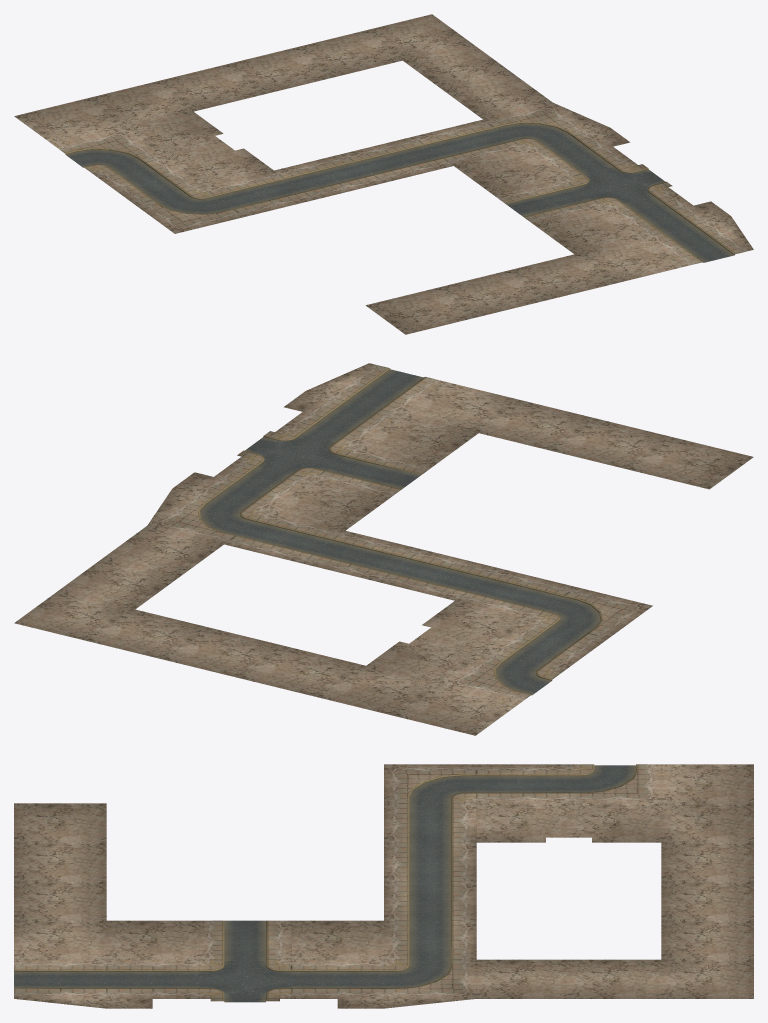
Rendered from M11Z2_Floor.glb.
3 renders of one model, top to bottom at view 1: azimuth 30°, elevation 25°; view 2: azimuth 150°, elevation 25°; view 3: azimuth 270°, elevation 25°, orthographic. The views are drawn at different scales.
Parts seen in each view (by area): view 1: M11Z2_FLOOR025, M11Z2_FLOOR020, M11Z2_FLOOR002, M11Z2_FLOOR018, M11Z2_FLOOR022, M11Z2_FLOOR007, M11Z2_FLOOR016, M11Z2_FLOOR030, M11Z2_FLOOR033, M11Z2_FLOOR010, M11Z2_FLOOR013, M11Z2_FLOOR017 (+17 smaller); view 2: M11Z2_FLOOR015, M11Z2_FLOOR013, M11Z2_FLOOR017, M11Z2_FLOOR018, M11Z2_FLOOR022, M11Z2_FLOOR002, M11Z2_FLOOR004, M11Z2_FLOOR028, M11Z2_FLOOR, M11Z2_FLOOR006, M11Z2_FLOOR010, M11Z2_FLOOR019 (+17 smaller); view 3: M11Z2_FLOOR009, M11Z2_FLOOR015, M11Z2_FLOOR016, M11Z2_FLOOR, M11Z2_FLOOR001, M11Z2_FLOOR002, M11Z2_FLOOR003, M11Z2_FLOOR004, M11Z2_FLOOR017, M11Z2_FLOOR018, M11Z2_FLOOR019, M11Z2_FLOOR027 (+21 smaller).
Part boxes in pixels (x1,y1,x2,y2): M11Z2_FLOOR025: [54, 128, 163, 174]; M11Z2_FLOOR020: [483, 102, 592, 148]; M11Z2_FLOOR002: [505, 254, 614, 300]; M11Z2_FLOOR018: [344, 136, 452, 182]; M11Z2_FLOOR022: [95, 158, 203, 204]; M11Z2_FLOOR007: [604, 191, 713, 237]; M11Z2_FLOOR016: [204, 170, 313, 216]; M11Z2_FLOOR030: [153, 65, 262, 111]; M11Z2_FLOOR033: [363, 14, 471, 60]; M11Z2_FLOOR010: [564, 161, 672, 207]; M11Z2_FLOOR013: [524, 132, 632, 178]; M11Z2_FLOOR017: [274, 153, 383, 199]; M11Z2_FLOOR015: [532, 587, 652, 638]; M11Z2_FLOOR013: [192, 460, 312, 511]; M11Z2_FLOOR017: [378, 549, 498, 600]; M11Z2_FLOOR018: [301, 530, 421, 581]; M11Z2_FLOOR022: [488, 619, 608, 670]; M11Z2_FLOOR002: [479, 400, 599, 451]; M11Z2_FLOOR004: [325, 363, 445, 414]; M11Z2_FLOOR028: [399, 684, 519, 735]; M11Z2_FLOOR: [633, 438, 753, 489]; M11Z2_FLOOR006: [358, 414, 478, 465]; M11Z2_FLOOR010: [236, 428, 356, 479]; M11Z2_FLOOR019: [224, 512, 344, 562]; M11Z2_FLOOR009: [199, 920, 291, 960]; M11Z2_FLOOR015: [384, 764, 476, 804]; M11Z2_FLOOR016: [384, 803, 476, 843]; M11Z2_FLOOR: [14, 803, 106, 842]; M11Z2_FLOOR001: [14, 842, 106, 881]; M11Z2_FLOOR002: [14, 881, 106, 920]; M11Z2_FLOOR003: [14, 920, 106, 959]; M11Z2_FLOOR004: [14, 959, 106, 998]; M11Z2_FLOOR017: [384, 842, 476, 882]; M11Z2_FLOOR018: [384, 881, 476, 921]; M11Z2_FLOOR019: [384, 920, 476, 960]; M11Z2_FLOOR027: [569, 959, 661, 998].
Size of the model in its own units: 50 by 0.1 by 64.
8 materials, 8 textured.
